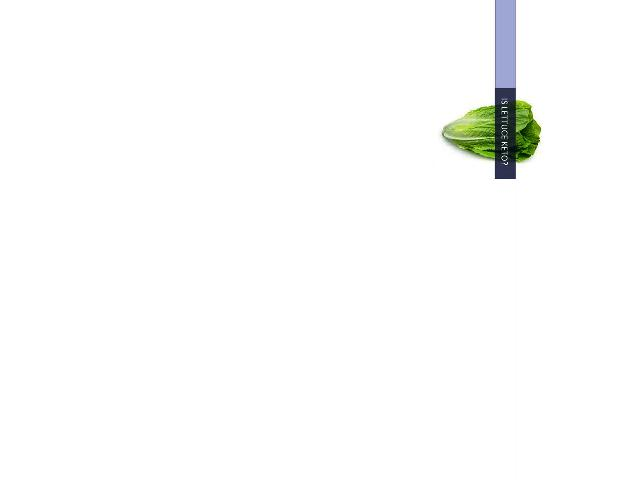lettuce: (433, 98, 540, 167)
